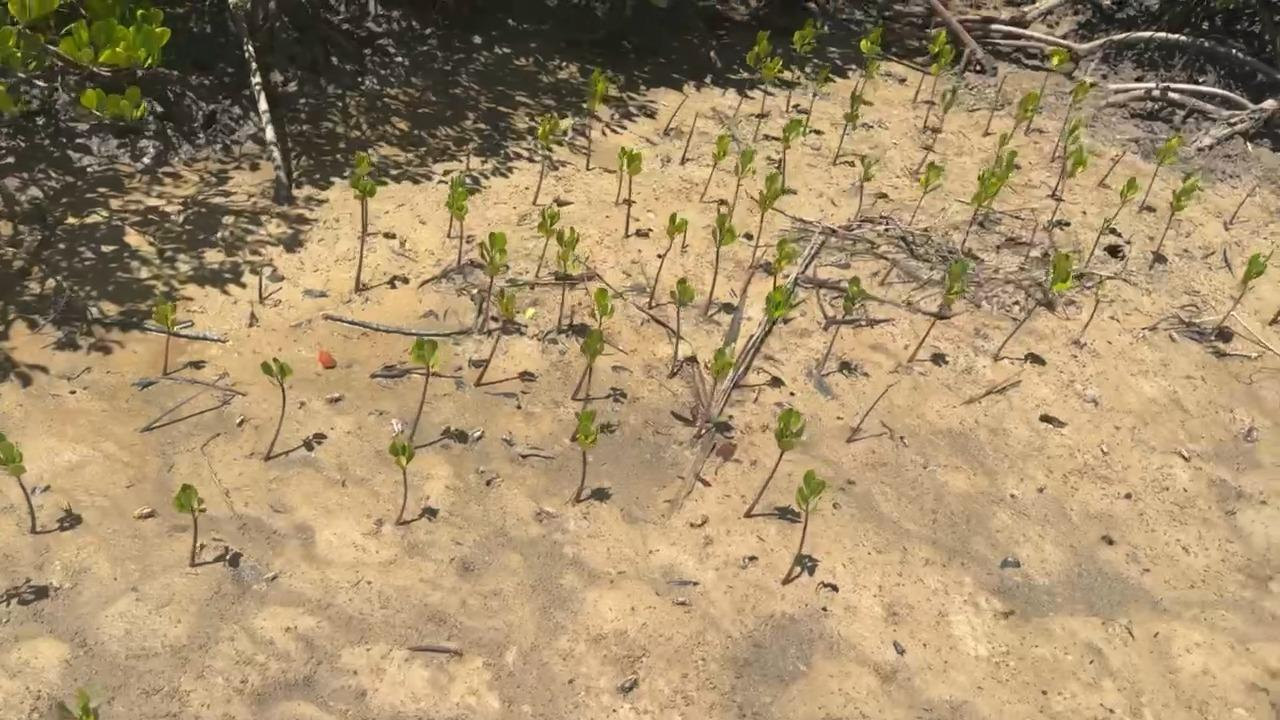Tree: (996, 249, 1082, 356), (906, 260, 975, 362), (744, 409, 806, 517), (962, 151, 1017, 249), (780, 468, 826, 585), (353, 150, 386, 293), (820, 276, 866, 374), (472, 288, 515, 387), (786, 17, 830, 113), (1218, 251, 1272, 326), (694, 342, 736, 438), (745, 169, 786, 267), (1024, 46, 1068, 137), (648, 212, 688, 308), (532, 110, 572, 205), (0, 433, 37, 534), (261, 357, 294, 461), (916, 86, 956, 170), (705, 214, 738, 314), (1159, 171, 1204, 244), (1052, 79, 1090, 163), (734, 31, 772, 115), (408, 336, 438, 441), (834, 90, 875, 163), (466, 231, 509, 300), (1050, 142, 1088, 220), (553, 225, 581, 330), (174, 483, 207, 569), (765, 117, 803, 190), (1142, 137, 1180, 208), (923, 42, 954, 128), (570, 408, 598, 501), (913, 26, 947, 101), (1051, 119, 1084, 196), (571, 327, 605, 400), (668, 278, 693, 377), (910, 161, 946, 229), (388, 441, 417, 525), (753, 57, 782, 141), (584, 69, 608, 169), (149, 294, 178, 375), (999, 92, 1038, 150), (847, 390, 890, 440), (700, 134, 731, 202), (534, 205, 560, 277), (983, 74, 1013, 135), (1106, 177, 1140, 229), (854, 155, 880, 221), (624, 148, 643, 237), (733, 145, 758, 212), (805, 67, 829, 134), (859, 26, 882, 94), (52, 688, 98, 720), (452, 178, 469, 264), (1229, 184, 1258, 223), (680, 112, 700, 164), (593, 287, 616, 328), (664, 96, 689, 132), (443, 177, 456, 236), (616, 147, 629, 205), (880, 262, 896, 284), (258, 268, 265, 302)
